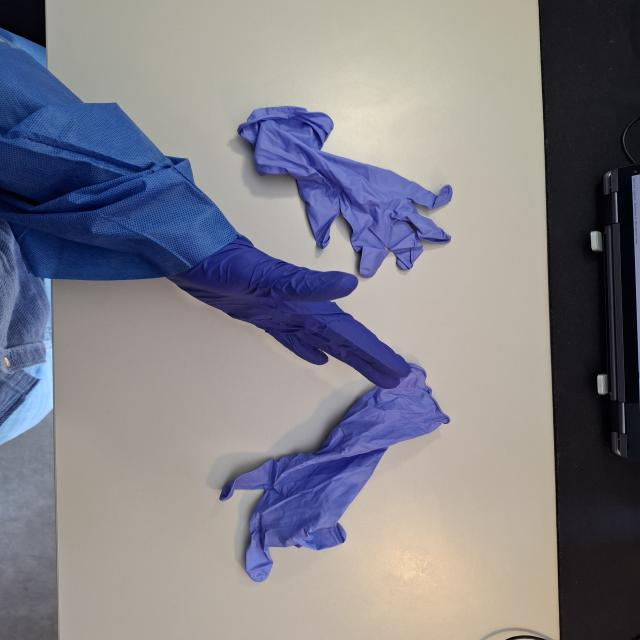glove_on: (160, 231, 415, 391)
